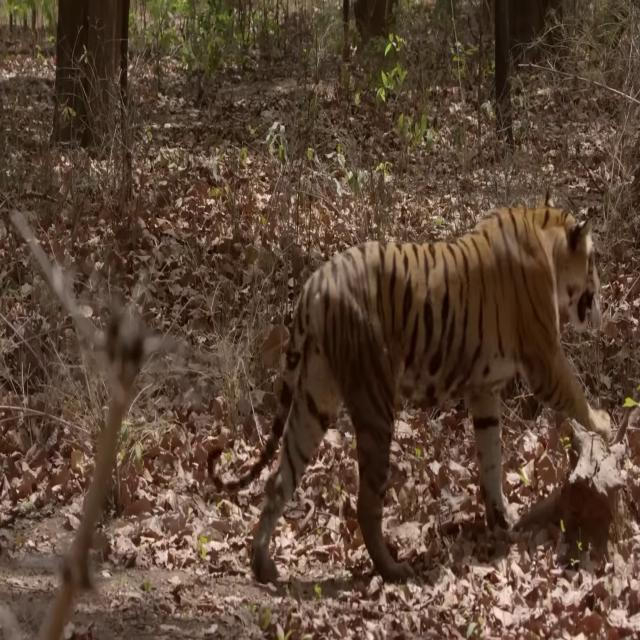tiger: (206, 206, 612, 584)
